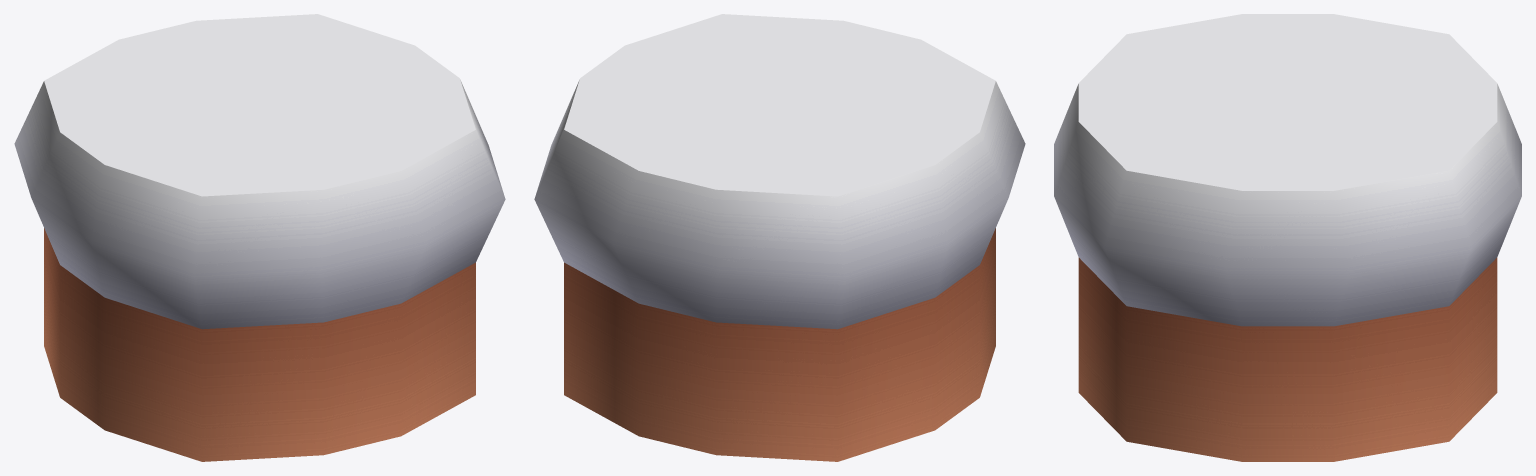
File: block-snow-low-narrow.glb
3 views of the same model, side by side, from view 1: azimuth 30°, elevation 25°; view 2: azimuth 150°, elevation 25°; view 3: azimuth 270°, elevation 25° (orthographic). The views are drawn at different scales.
Visible parts, largest first — view 1: block-snow-low-narrow; view 2: block-snow-low-narrow; view 3: block-snow-low-narrow.
Boxes of the visible parts, box(x1,y1,x2,y2) form: block-snow-low-narrow: box(14, 14, 505, 461); block-snow-low-narrow: box(534, 14, 1025, 461); block-snow-low-narrow: box(1054, 14, 1521, 461).
Bounding box in the file's own units: 0.7821 × 0.5 × 0.7821.
1 material, 1 textured.
